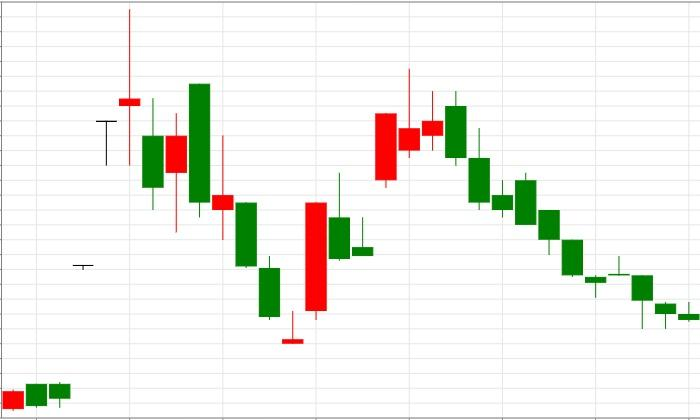morning_star_rise: (189, 83, 328, 344)
